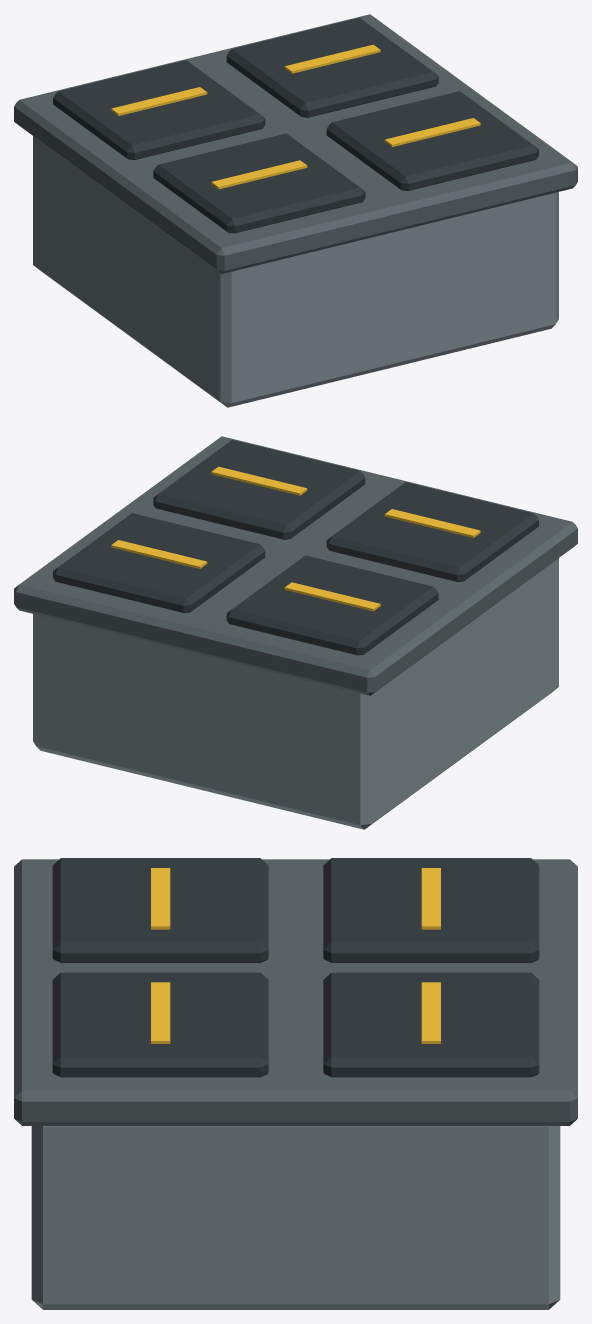
Rendered from MOD_VLS_before_2026-10-08.fbx.
3 views of the same model, one above another, from view 1: azimuth 30°, elevation 25°; view 2: azimuth 150°, elevation 25°; view 3: azimuth 270°, elevation 25° (orthographic). The views are drawn at different scales.
Parts seen in each view (by area): view 1: VLSBelowDeckCanister, VLSDeckFlange, VLSHatch_01, VLSHatch_02, VLSHatch_03, VLSHatch_04, HatchWarning_04, HatchWarning_01, HatchWarning_02, HatchWarning_03; view 2: VLSBelowDeckCanister, VLSDeckFlange, VLSHatch_03, VLSHatch_04, VLSHatch_01, VLSHatch_02, HatchWarning_02, HatchWarning_03, HatchWarning_04, HatchWarning_01; view 3: VLSBelowDeckCanister, VLSDeckFlange, VLSHatch_02, VLSHatch_04, VLSHatch_01, VLSHatch_03, HatchWarning_01, HatchWarning_02, HatchWarning_03, HatchWarning_04.
Boxes of the visible parts, x1=… form: VLSBelowDeckCanister: x1=33, y1=136, x2=558, y2=407; VLSDeckFlange: x1=14, y1=14, x2=577, y2=273; VLSHatch_01: x1=153, y1=133, x2=365, y2=233; VLSHatch_02: x1=326, y1=91, x2=538, y2=190; VLSHatch_03: x1=53, y1=60, x2=265, y2=159; VLSHatch_04: x1=226, y1=18, x2=438, y2=117; HatchWarning_04: x1=284, y1=44, x2=380, y2=73; HatchWarning_01: x1=211, y1=160, x2=307, y2=189; HatchWarning_02: x1=384, y1=118, x2=480, y2=146; HatchWarning_03: x1=111, y1=87, x2=207, y2=115; VLSBelowDeckCanister: x1=33, y1=558, x2=558, y2=829; VLSDeckFlange: x1=14, y1=436, x2=577, y2=695; VLSHatch_03: x1=226, y1=555, x2=438, y2=655; VLSHatch_04: x1=53, y1=513, x2=265, y2=612; VLSHatch_01: x1=326, y1=482, x2=538, y2=581; VLSHatch_02: x1=153, y1=440, x2=365, y2=539; HatchWarning_02: x1=211, y1=466, x2=307, y2=495; HatchWarning_03: x1=284, y1=582, x2=380, y2=611; HatchWarning_04: x1=111, y1=540, x2=207, y2=568; HatchWarning_01: x1=384, y1=509, x2=480, y2=537; VLSBelowDeckCanister: x1=31, y1=1126, x2=560, y2=1309; VLSDeckFlange: x1=14, y1=859, x2=577, y2=1125; VLSHatch_02: x1=52, y1=972, x2=268, y2=1077; VLSHatch_04: x1=323, y1=972, x2=539, y2=1077; VLSHatch_01: x1=52, y1=858, x2=268, y2=962; VLSHatch_03: x1=323, y1=858, x2=539, y2=962; HatchWarning_01: x1=151, y1=868, x2=170, y2=929; HatchWarning_02: x1=151, y1=982, x2=170, y2=1043; HatchWarning_03: x1=421, y1=868, x2=440, y2=929; HatchWarning_04: x1=421, y1=982, x2=440, y2=1043.
Size of the model in its own units: 175 by 85.1 by 175.
